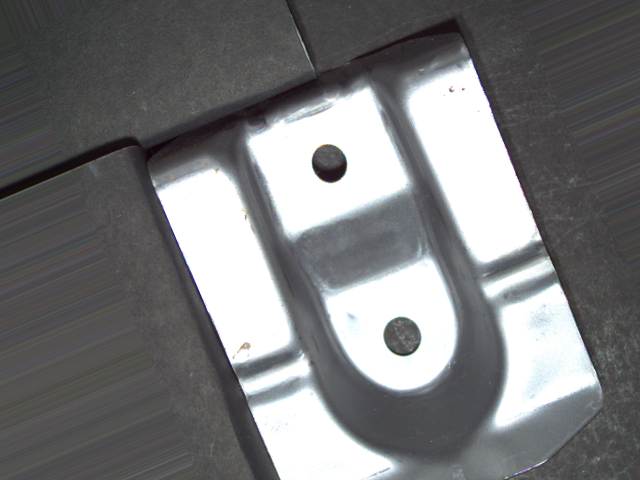defect: (380, 306, 424, 362)
